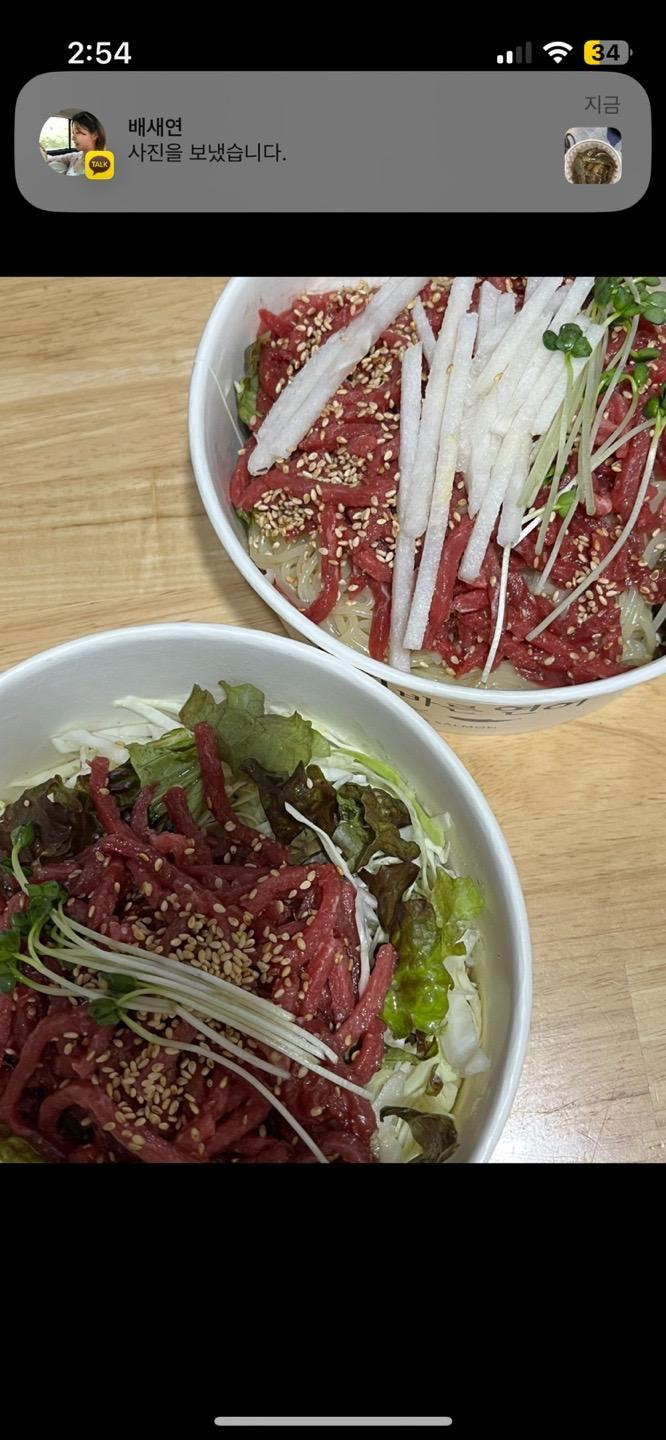Lunch Box: (0, 623, 531, 1163), (188, 276, 665, 735)
